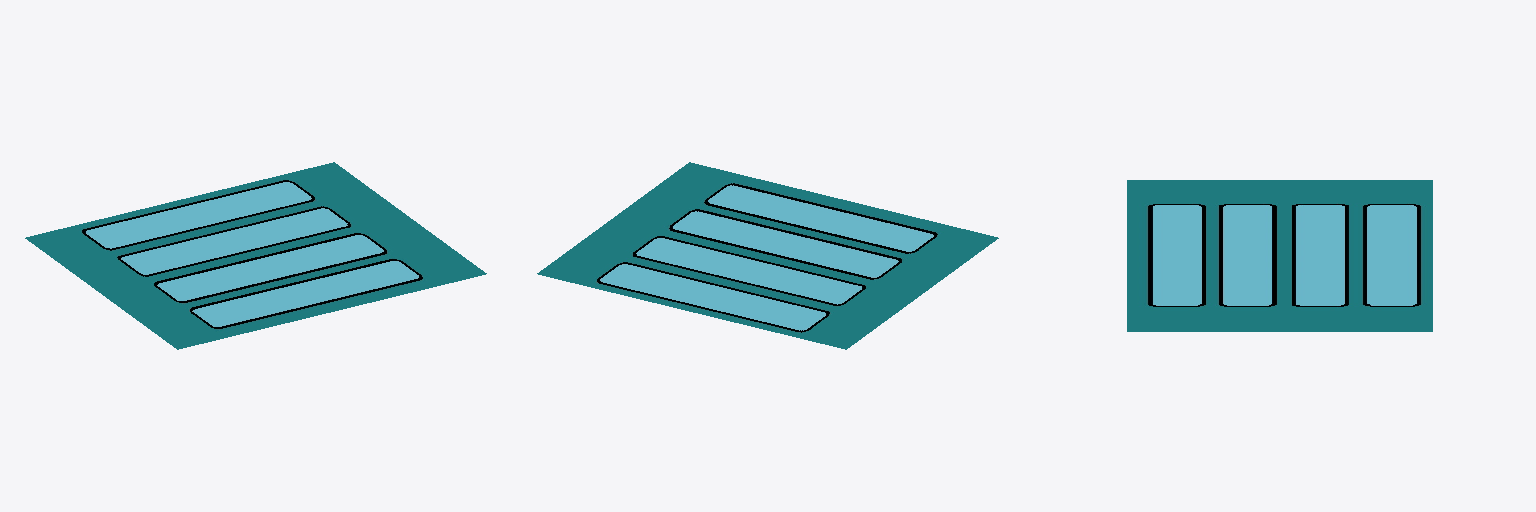
The picture shows the model from 3 angles: view 1: azimuth 30°, elevation 25°; view 2: azimuth 150°, elevation 25°; view 3: azimuth 270°, elevation 25°; orthographic projection.
Visible parts, largest first — view 1: Plane002; view 2: Plane002; view 3: Plane002.
Boxes of the visible parts, x1=… form: Plane002: x1=25, y1=162, x2=486, y2=349; Plane002: x1=537, y1=162, x2=998, y2=349; Plane002: x1=1127, y1=180, x2=1432, y2=331.
Bounding box in the file's own units: 94.59 × 0 × 80.88.
1 materials, 1 textured.